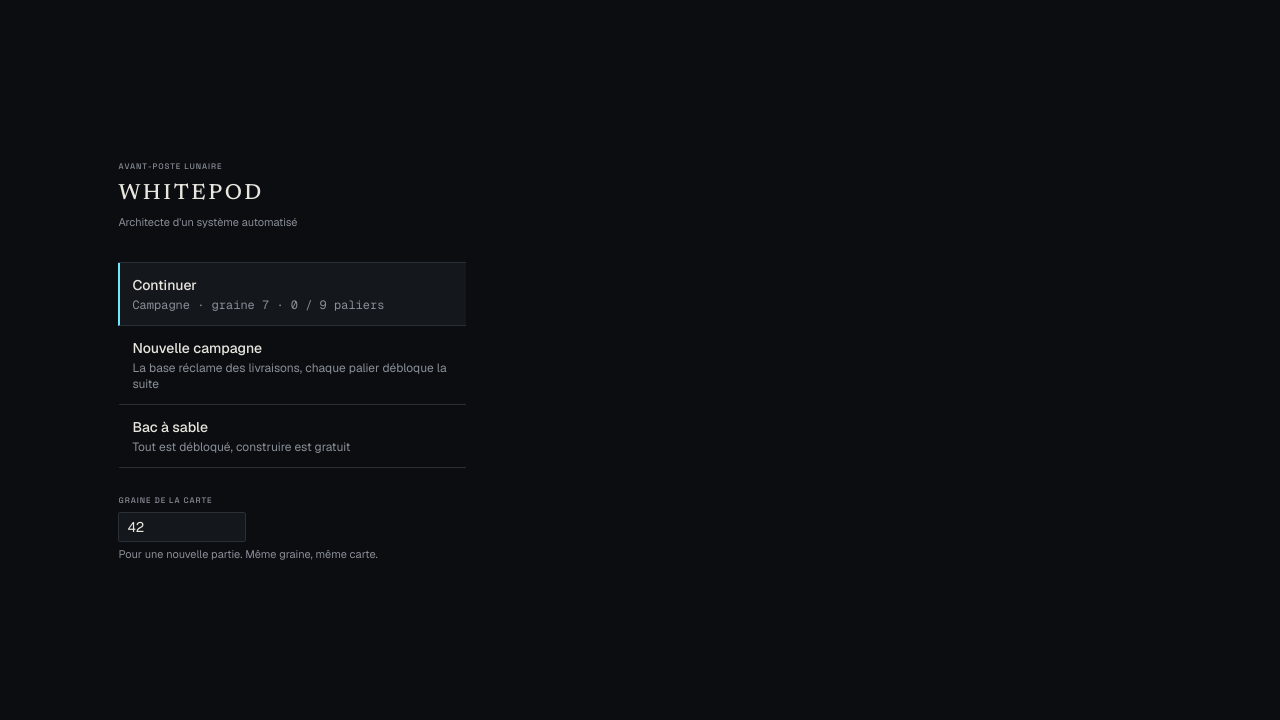
Test: StartScreen at boot › asks before overwriting a save, and keeps it on cancel
Click the button "Bac à sable Tout est débloqué, construire est gratuit": (292, 437) 118,405 -> 466,468
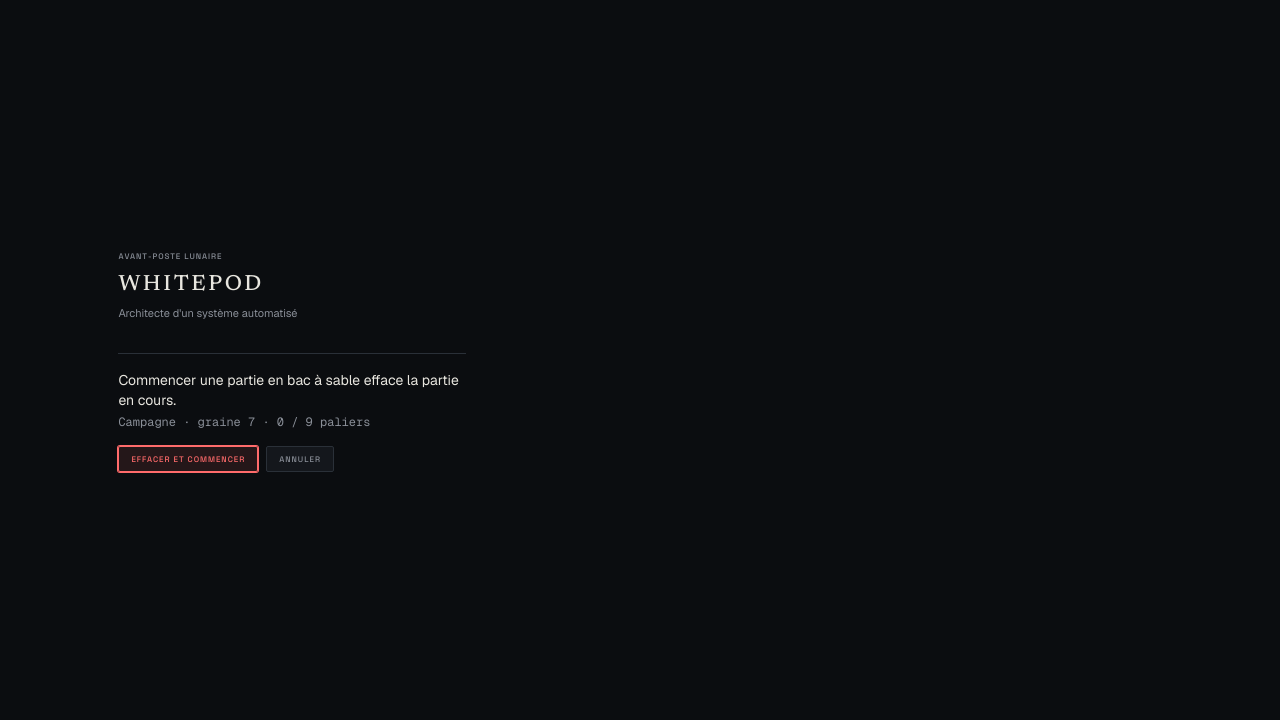
Result: the dialog shows "efface la partie en cours" at 118,371 -> 459,409
Click the button "Annuler": (300, 459) 266,446 -> 334,472
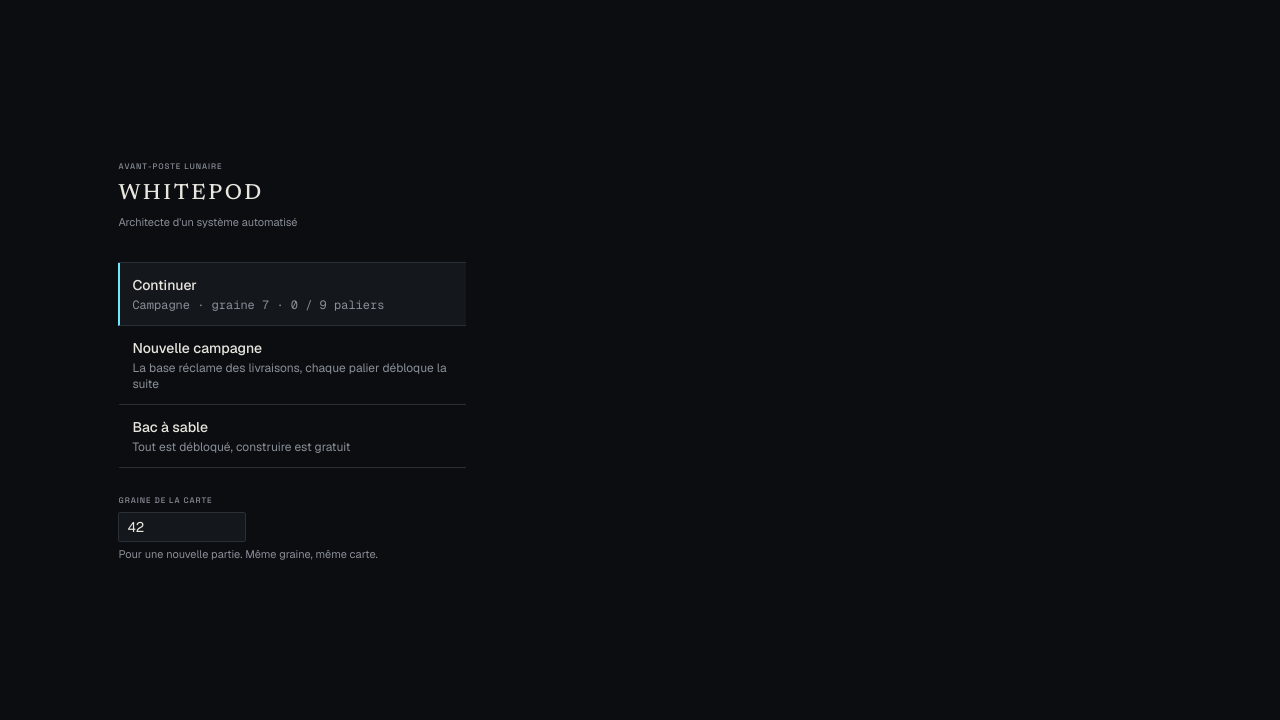
Result: the button "Continuer Campagne · graine 7 · 0 / 9 paliers" is shown at 118,263 -> 466,326
